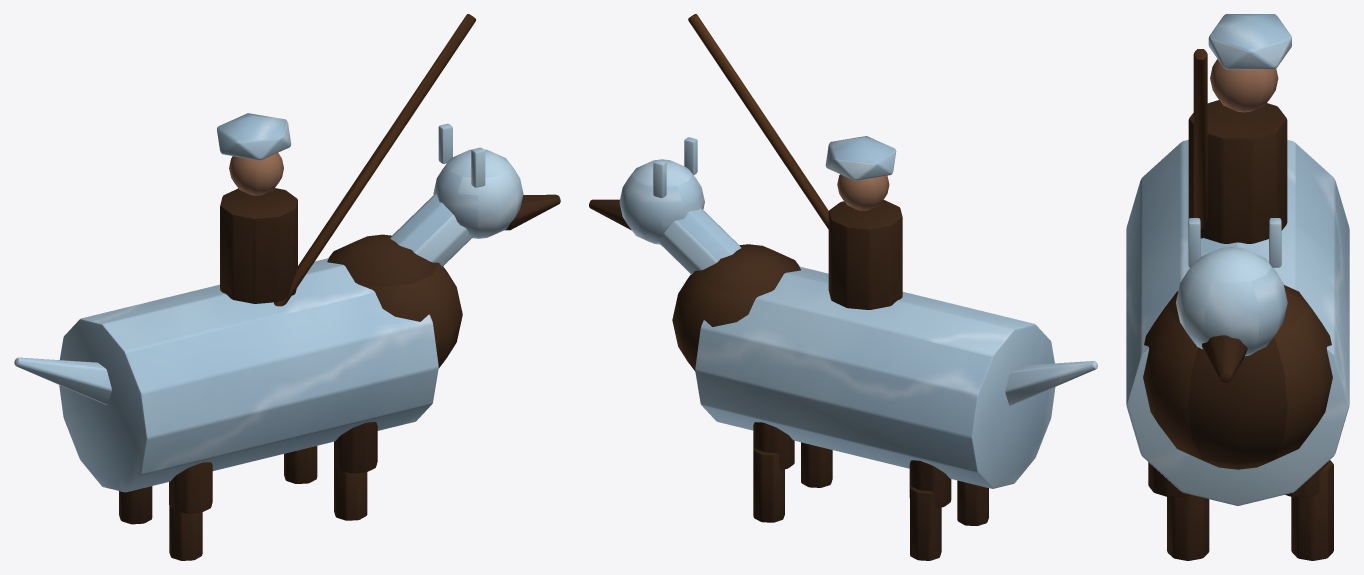
Rendered from unit_outcast_beast_rider.fbx.
The picture shows the model from 3 angles, left to right: view 1: azimuth 30°, elevation 25°; view 2: azimuth 150°, elevation 25°; view 3: azimuth 270°, elevation 25°; orthographic projection. The views are drawn at different scales.
Parts seen in each view (by area): view 1: unit_outcast_beast_rider; view 2: unit_outcast_beast_rider; view 3: unit_outcast_beast_rider.
Part boxes in pixels (bbox=[...]): unit_outcast_beast_rider: bbox=[14, 14, 560, 560]; unit_outcast_beast_rider: bbox=[589, 14, 1097, 560]; unit_outcast_beast_rider: bbox=[1126, 14, 1349, 560].
Size of the model in its own units: 2.48 by 2.05 by 0.7175.
